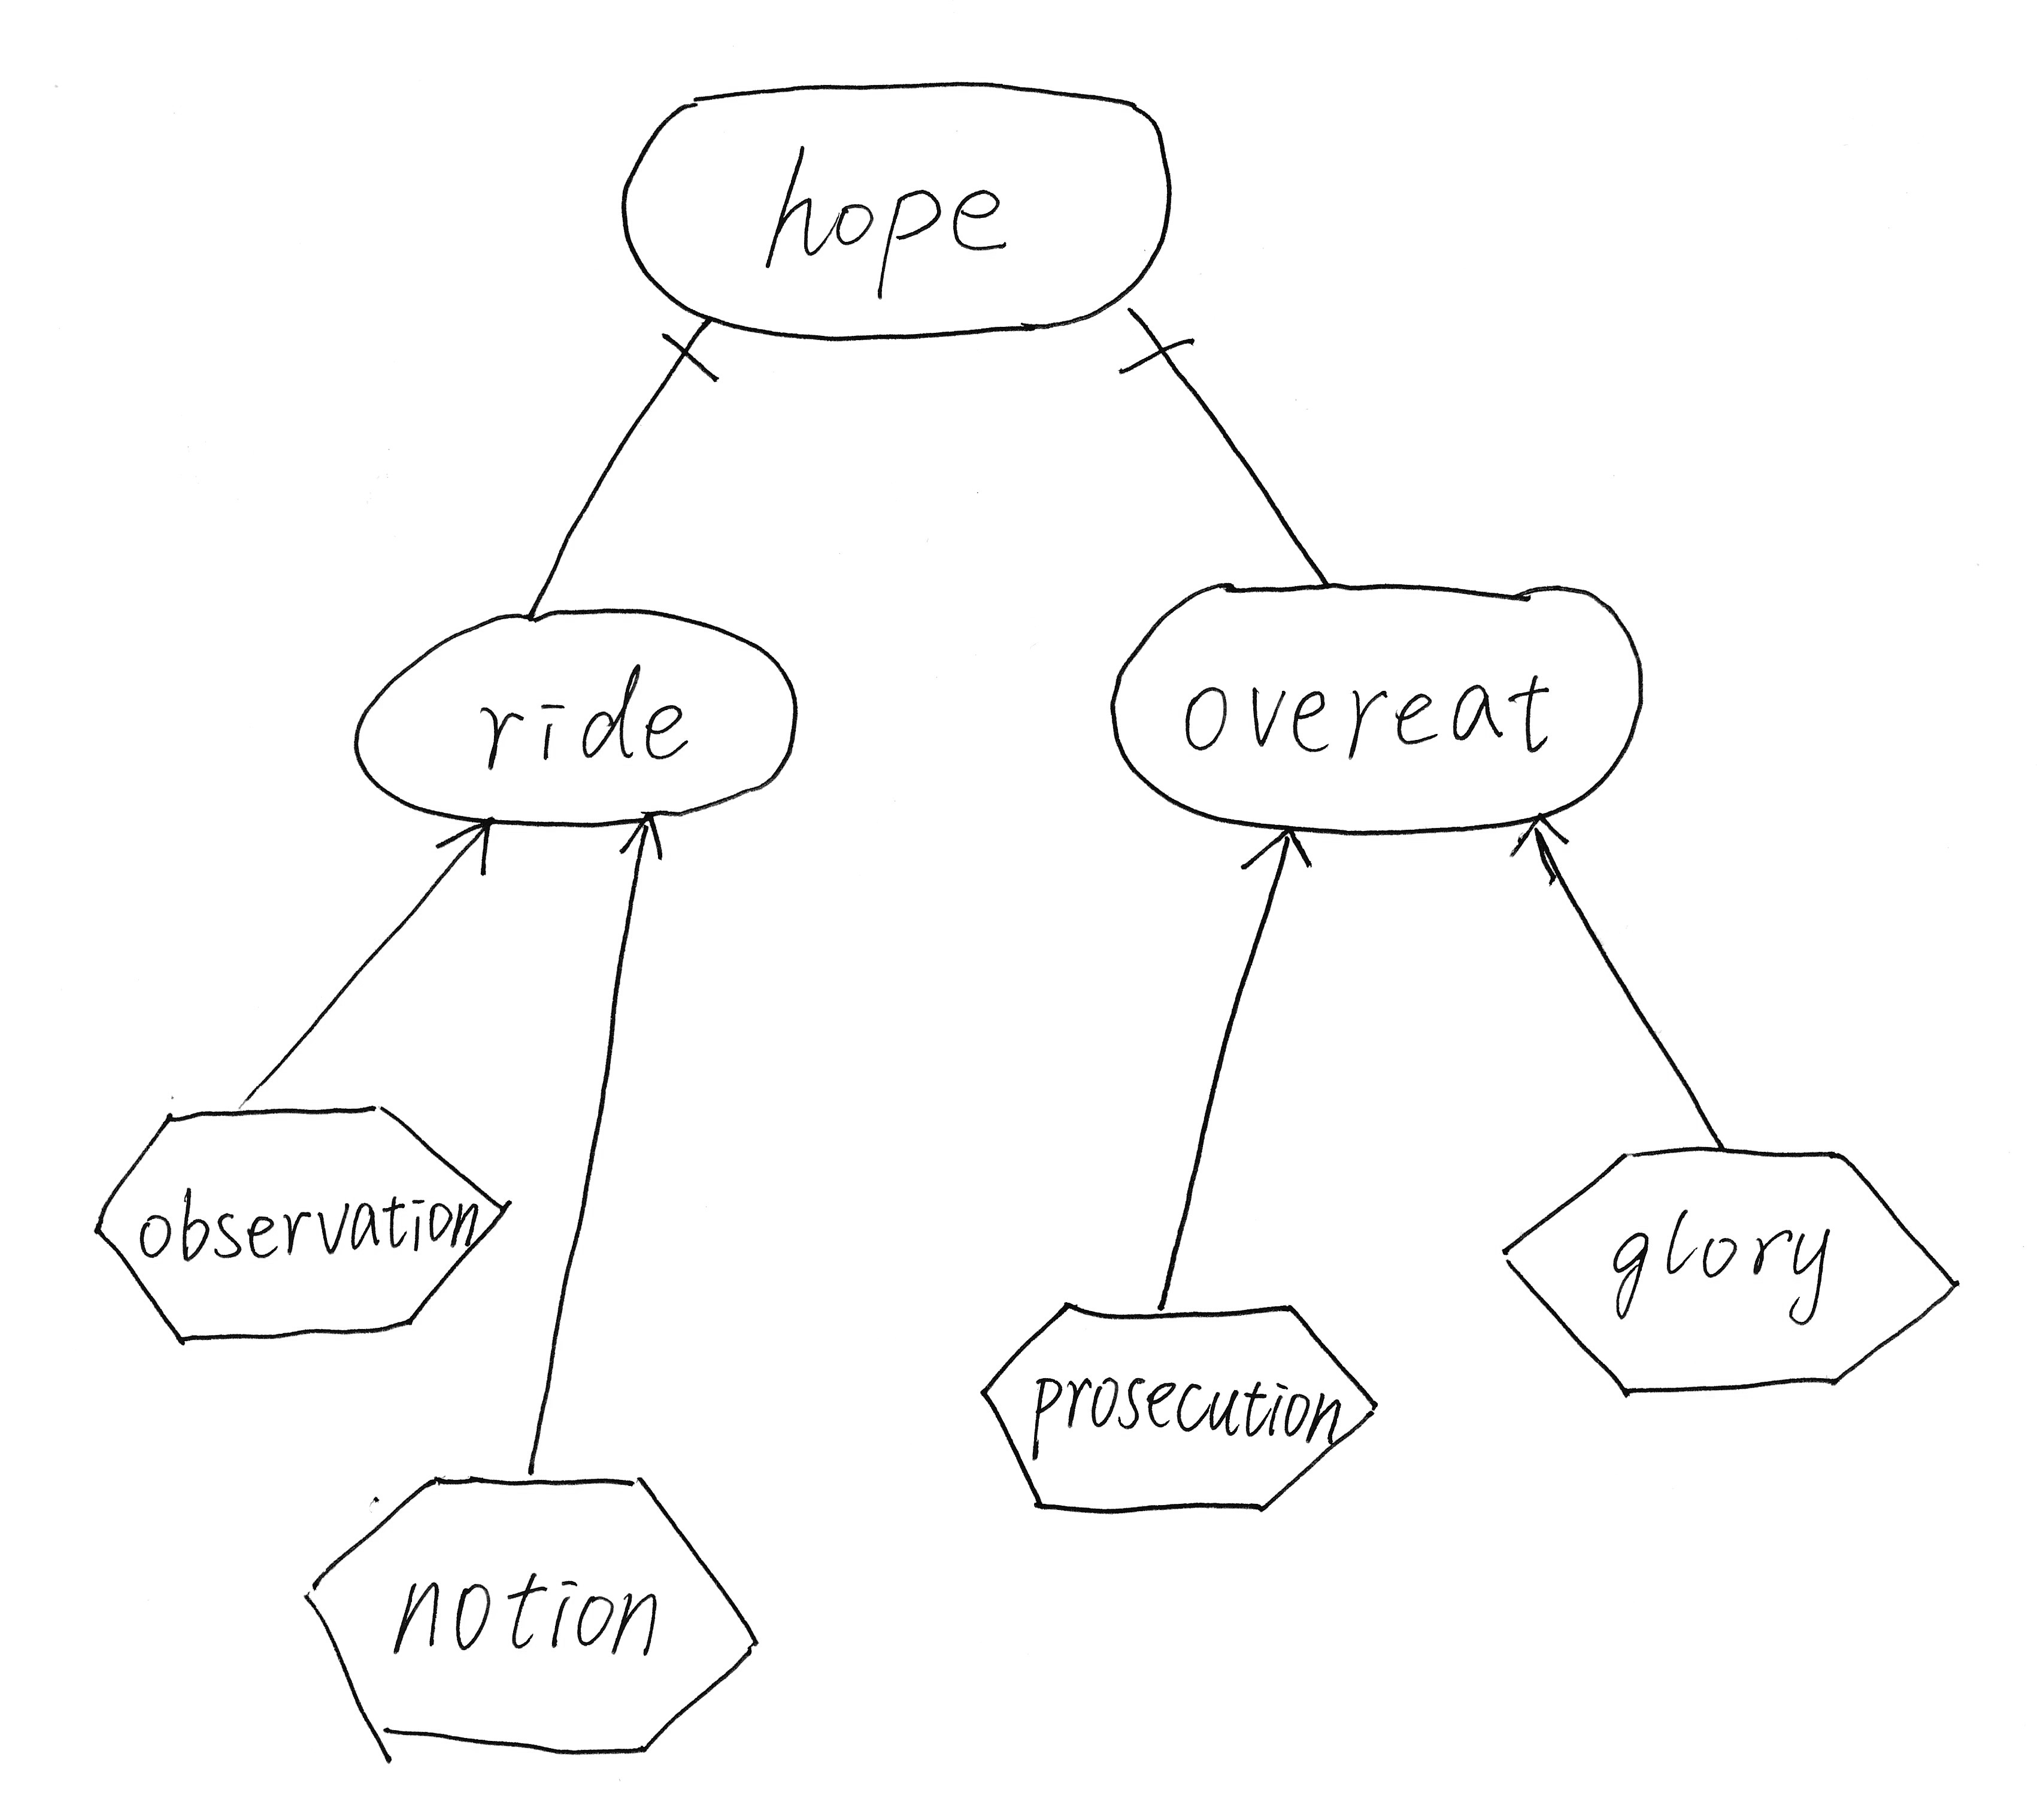and: (1090, 281, 1218, 385), (638, 299, 745, 397)
arrow: (1230, 806, 1337, 908), (592, 789, 698, 878), (420, 798, 515, 882), (1490, 789, 1580, 877)
goal: (594, 58, 1199, 357), (1081, 553, 1671, 847), (325, 585, 823, 861)
task: (283, 1449, 782, 1776), (1482, 1121, 1988, 1421), (76, 1082, 534, 1363), (965, 1279, 1406, 1539)
